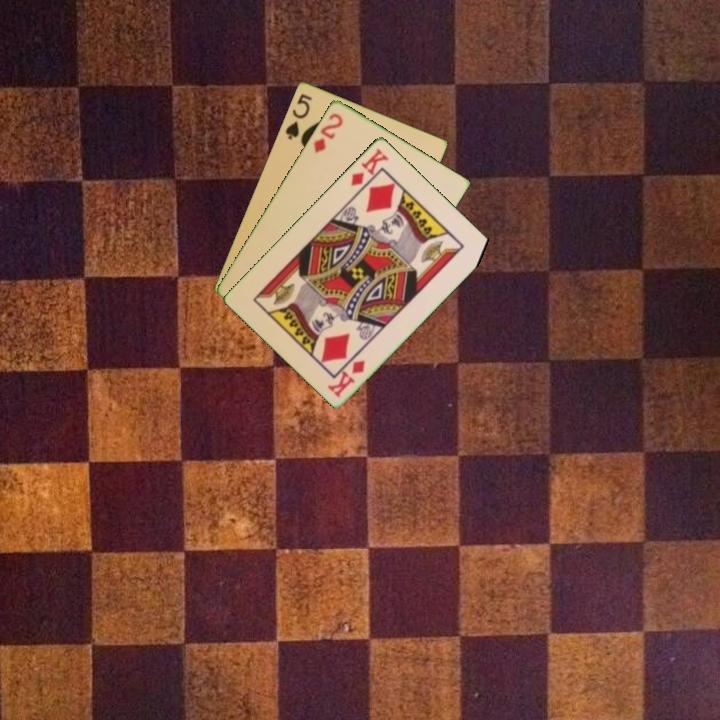2d: (310, 109, 346, 156)
5s: (282, 90, 315, 142)
Kd: (347, 144, 391, 189), (325, 356, 368, 400)
